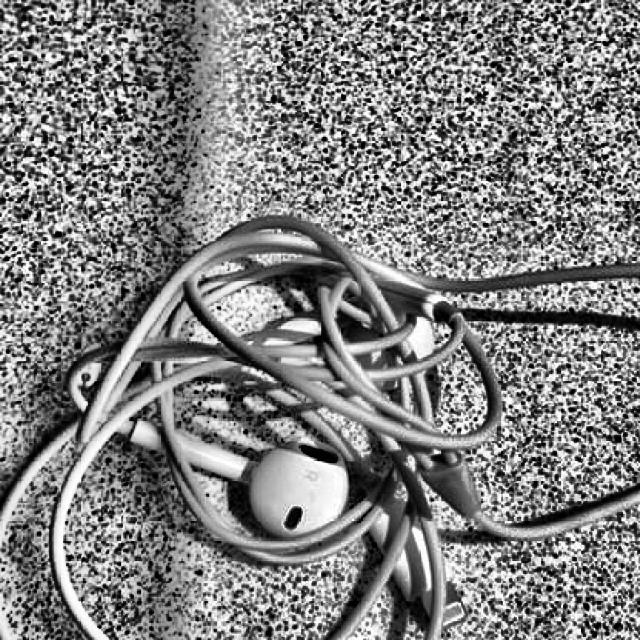Cable: (0, 212, 640, 640)
